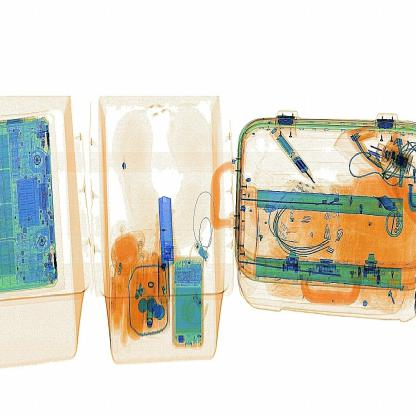pliers: (155, 190, 182, 269)
